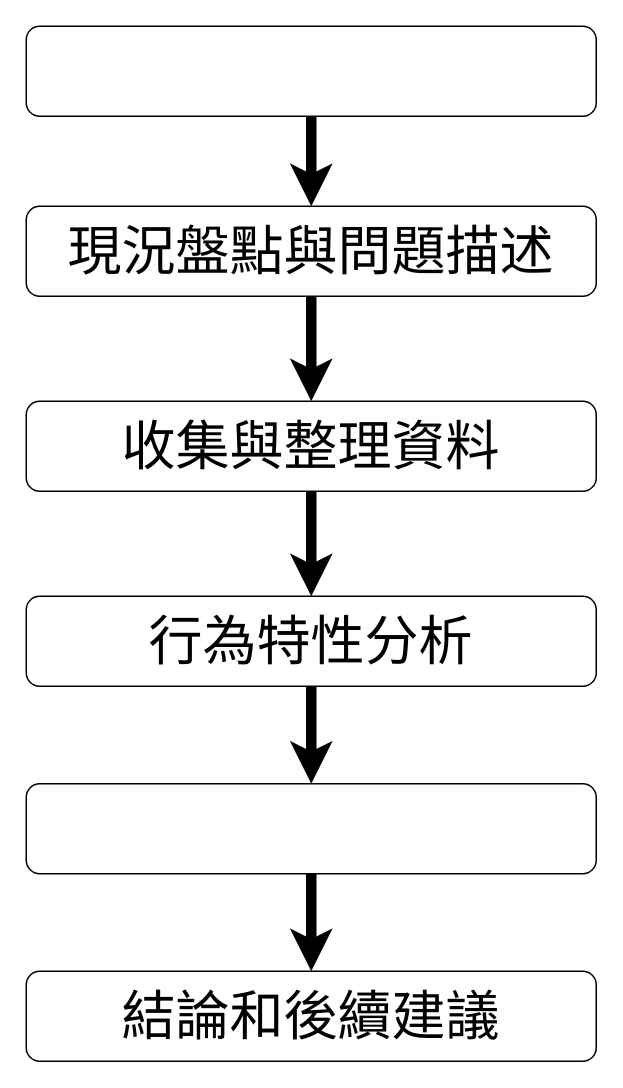
Some shapes in this 623 by 1088 pixel diagram are drawn without their labels. Here are the shapes that lost their labels. From the top down, the centre of each, then its label:
At (x=310, y=70): "文獻回顧".
At (x=310, y=828): "政策成效評估".
